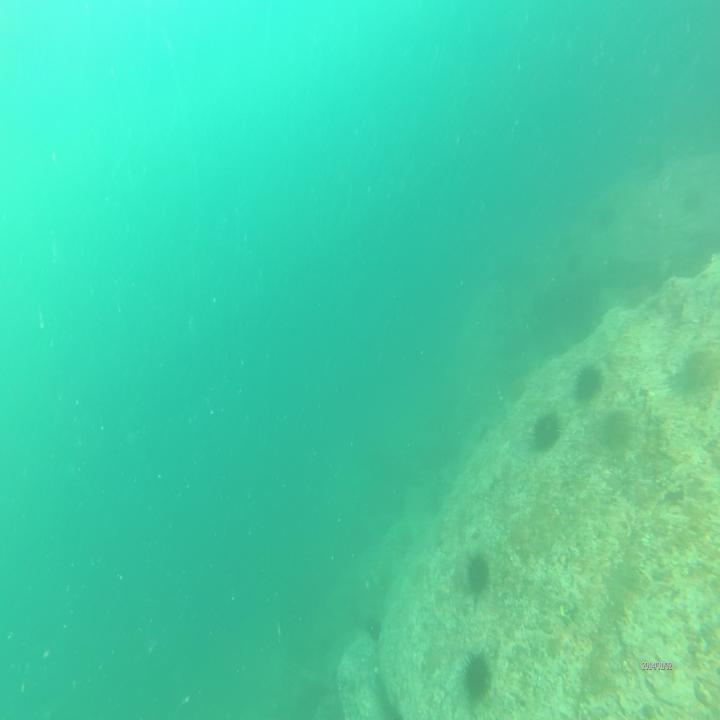echinus: (459, 645, 492, 700), (600, 409, 634, 460), (679, 347, 715, 393), (532, 408, 558, 449), (463, 552, 488, 590), (577, 360, 595, 401)
